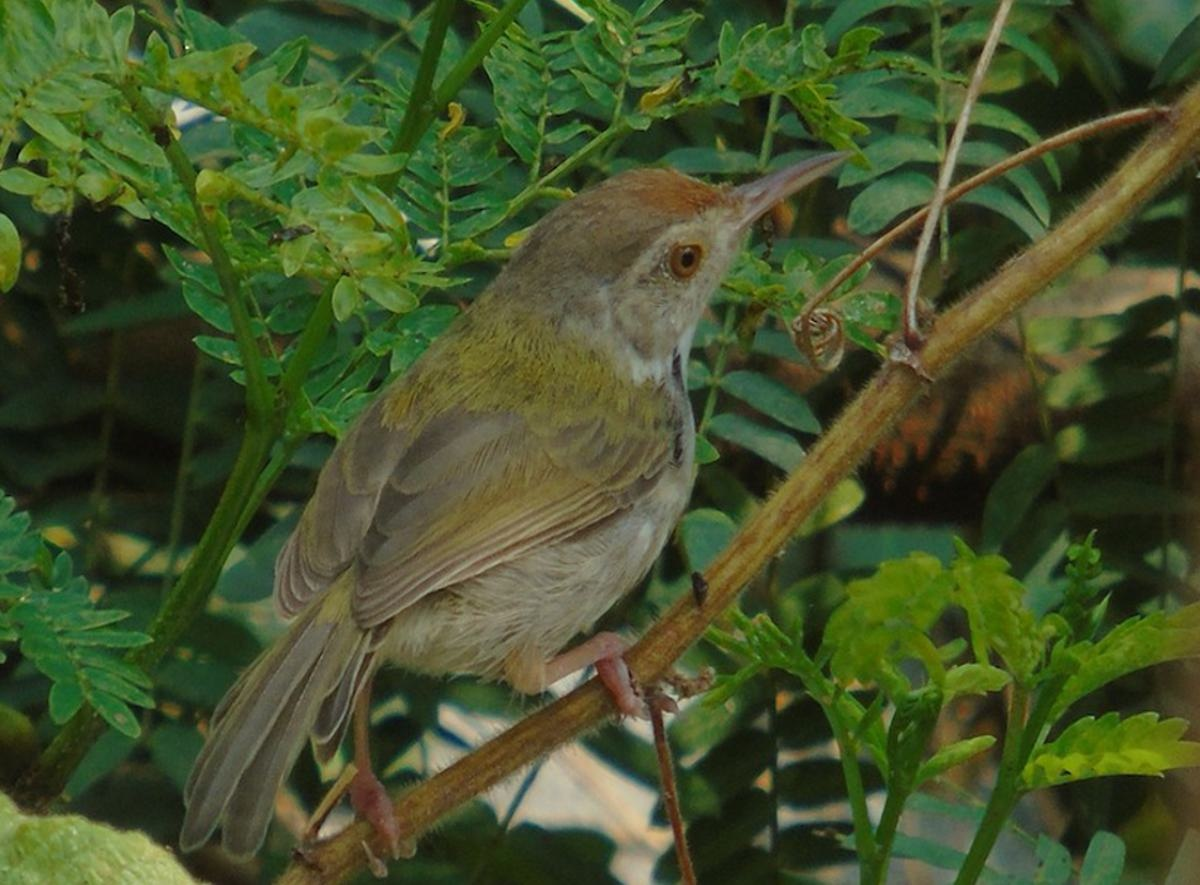tailorbird: (207, 129, 798, 799)
